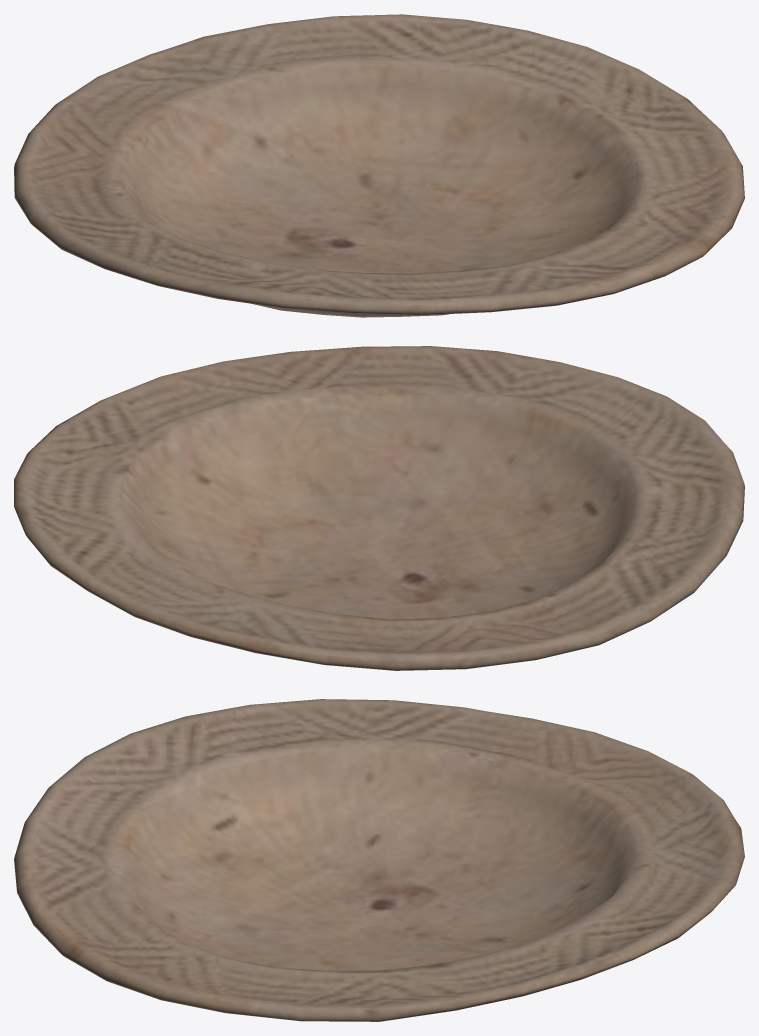
File: carved_wooden_plate.gltf
The picture shows the model from 3 angles, top to bottom: view 1: azimuth 30°, elevation 25°; view 2: azimuth 150°, elevation 25°; view 3: azimuth 270°, elevation 25°; orthographic projection. The views are drawn at different scales.
Parts seen in each view (by area): view 1: carved_wooden_plate; view 2: carved_wooden_plate; view 3: carved_wooden_plate.
Part boxes in pixels (x1,y1,x2,y2): carved_wooden_plate: [14, 14, 744, 317]; carved_wooden_plate: [14, 346, 744, 670]; carved_wooden_plate: [14, 699, 744, 1021].
Size of the model in its own units: 0.2718 by 0.0381 by 0.2688.
Materials: 1 (1 with a texture image).
